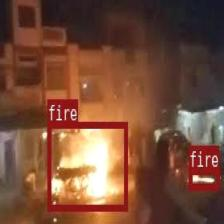fire: (47, 121, 127, 209), (188, 167, 219, 189)
